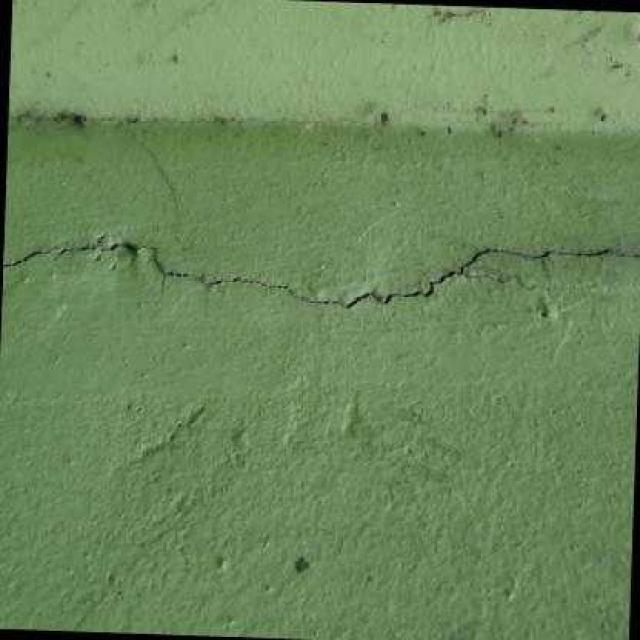D00: (1, 235, 640, 311)
